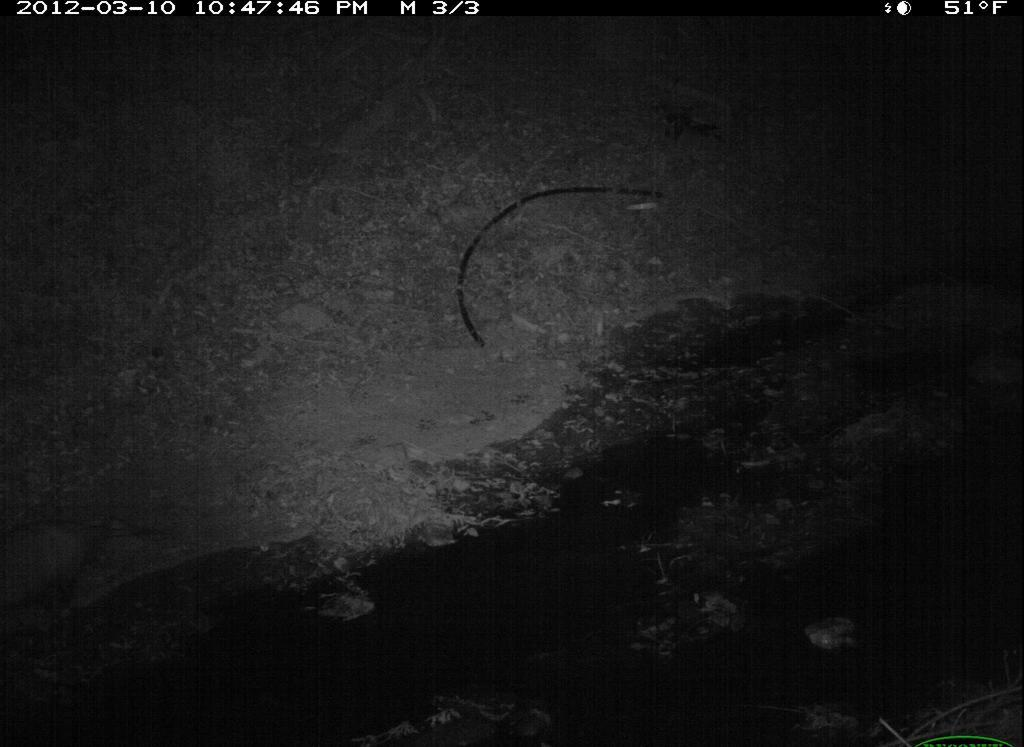opossum: (3, 507, 173, 641)
